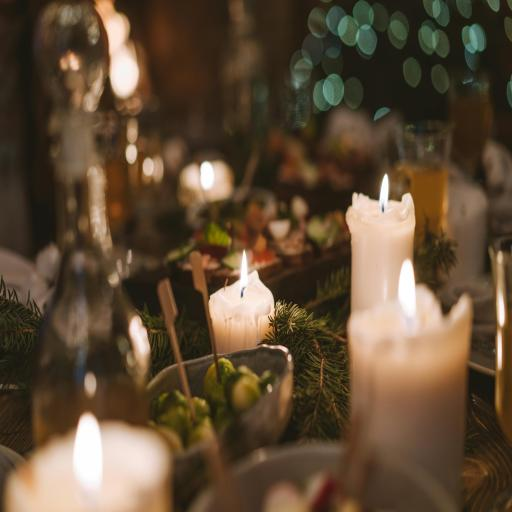candlelight: (349, 288, 475, 508), (5, 424, 171, 512), (350, 160, 426, 302), (208, 273, 276, 356)
